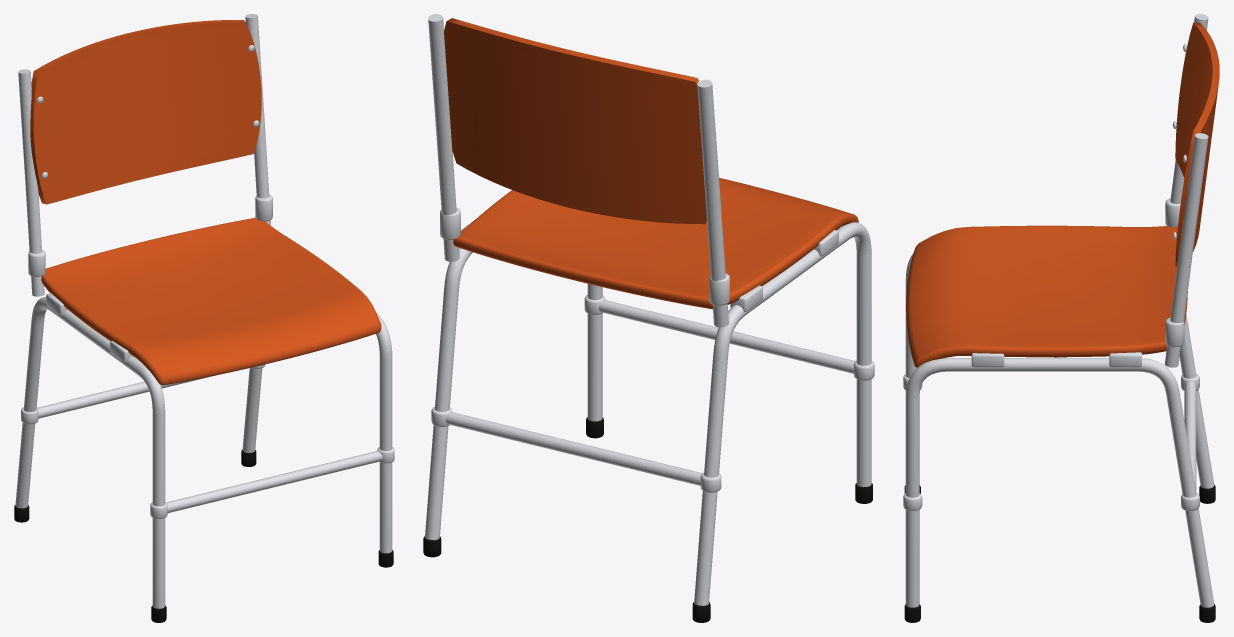
File: reu_chaise.glb
3 views of the same model, side by side, from view 1: azimuth 30°, elevation 25°; view 2: azimuth 150°, elevation 25°; view 3: azimuth 270°, elevation 25° (orthographic). The views are drawn at different scales.
Visible parts, largest first — view 1: assise, dossier, tube_cote, traverse, tube_dossier, collier, patin, equerre; view 2: dossier, assise, tube_cote, traverse, tube_dossier, collier, patin, equerre; view 3: assise, tube_cote, dossier, tube_dossier, collier, traverse, equerre, patin.
Boxes of the visible parts, bbox=[...] form: assise: bbox=[41, 217, 381, 385]; dossier: bbox=[30, 20, 261, 204]; tube_cote: bbox=[15, 297, 392, 608]; traverse: bbox=[37, 375, 382, 513]; tube_dossier: bbox=[18, 14, 270, 296]; collier: bbox=[21, 194, 394, 518]; patin: bbox=[14, 449, 393, 622]; equerre: bbox=[46, 236, 364, 362]; dossier: bbox=[444, 18, 706, 224]; assise: bbox=[453, 177, 858, 309]; tube_cote: bbox=[425, 222, 871, 605]; traverse: bbox=[445, 300, 855, 485]; tube_dossier: bbox=[428, 14, 728, 327]; collier: bbox=[431, 207, 874, 492]; patin: bbox=[423, 417, 872, 622]; equerre: bbox=[461, 219, 838, 311]; assise: bbox=[906, 225, 1187, 367]; tube_cote: bbox=[905, 253, 1214, 607]; dossier: bbox=[1175, 22, 1219, 266]; tube_dossier: bbox=[1164, 14, 1208, 367]; collier: bbox=[903, 198, 1199, 510]; traverse: bbox=[906, 357, 1196, 492]; equerre: bbox=[971, 352, 1141, 367]; patin: bbox=[904, 485, 1215, 622].
Bounding box in the file's own units: 0.459 × 0.825 × 0.4831.
